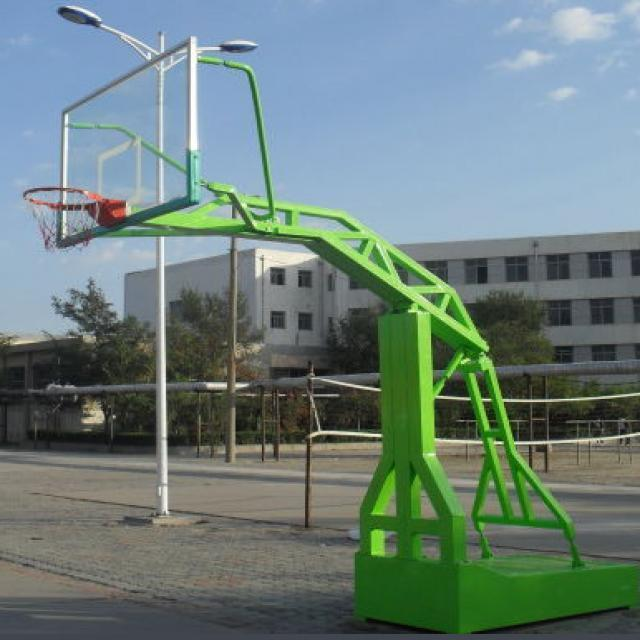hoop: (18, 179, 131, 259)
